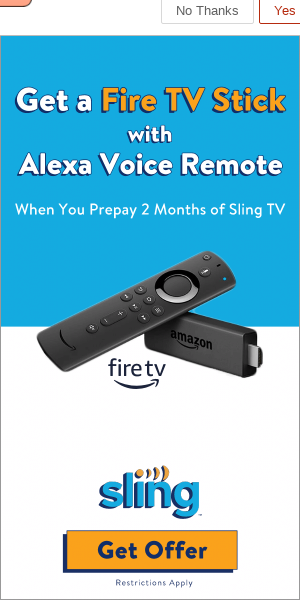fake_button: (50, 521, 258, 590)
